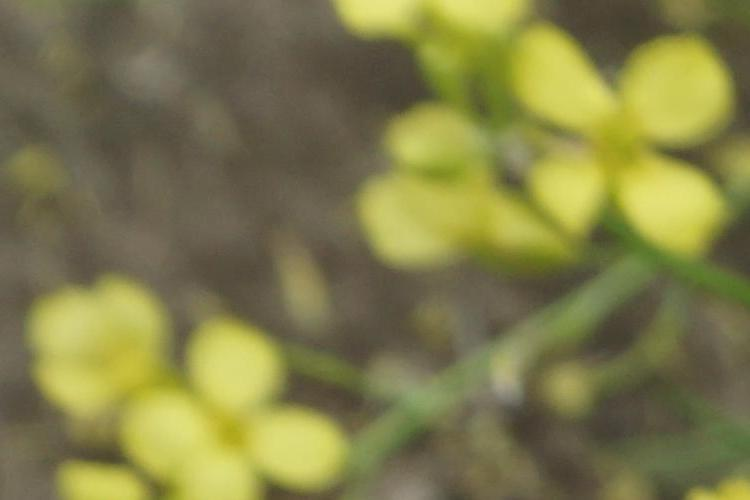yellow: (522, 50, 725, 245), (122, 319, 334, 499), (349, 106, 560, 279), (30, 268, 176, 421)
